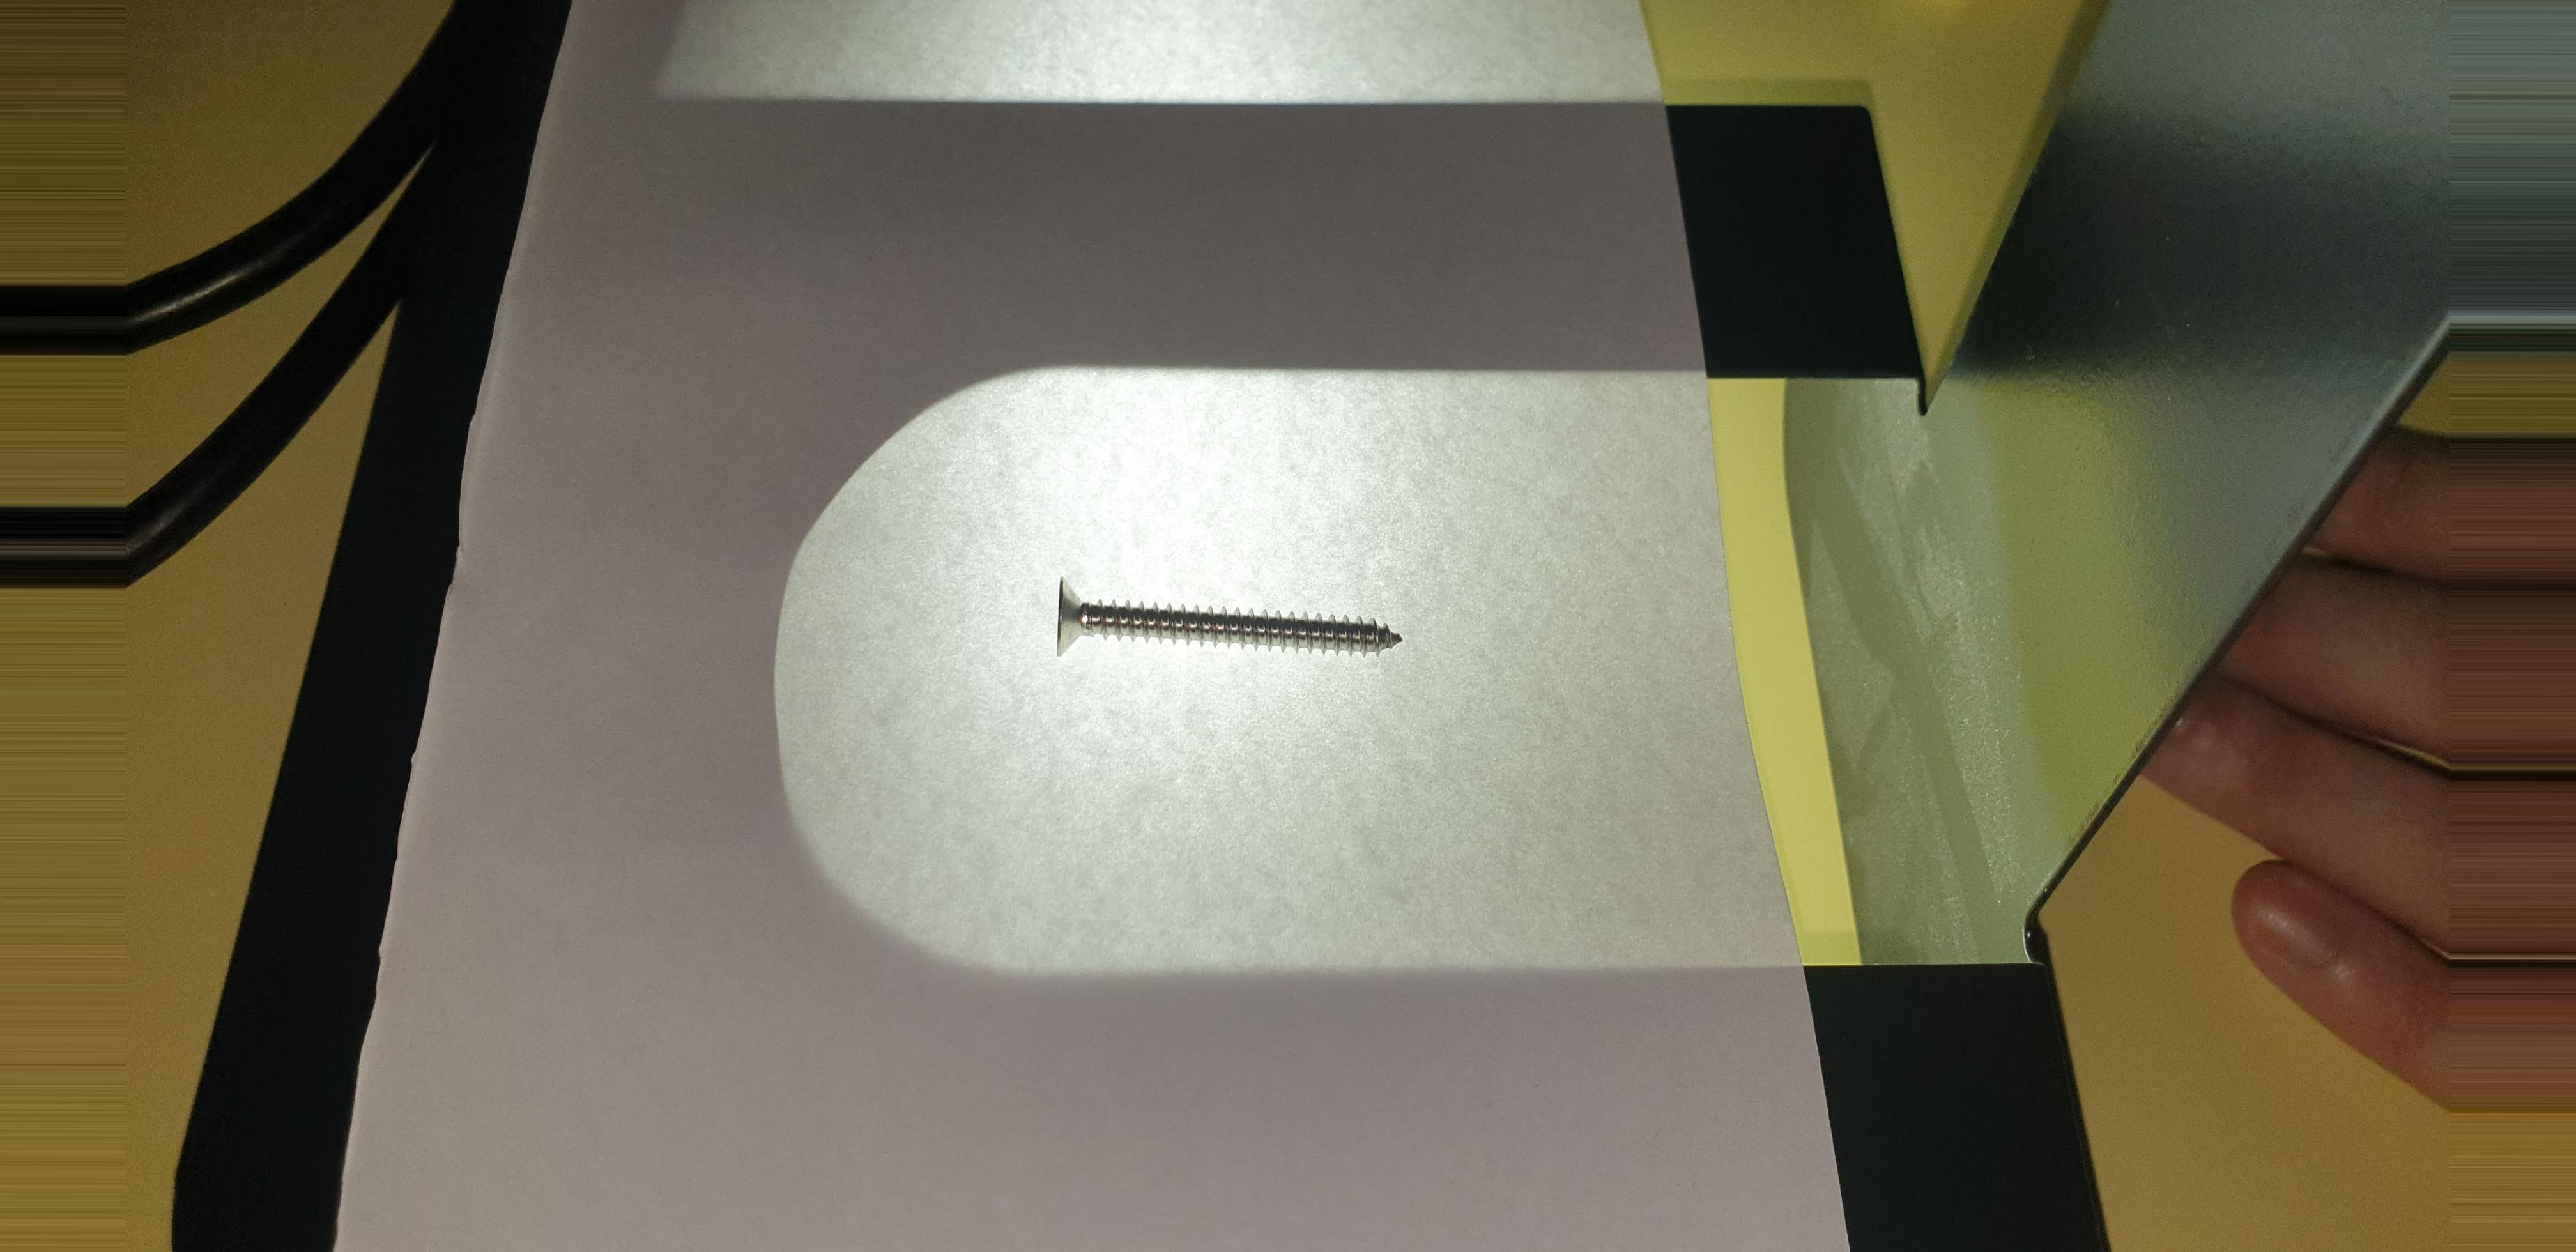fastener: (1027, 529, 1533, 700)
